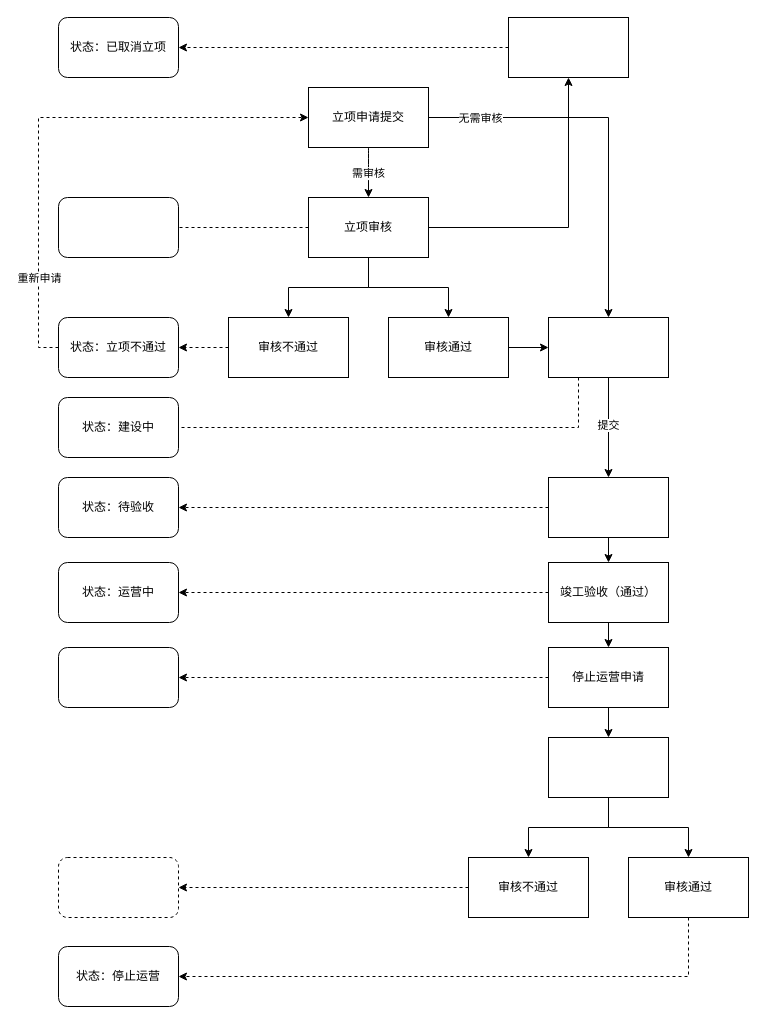
Image size: 766x1024. Some labels were removed from this diagram. The box of each missing label's shape, as (x1, y1, x2, y2) in pixels:
停止运营审核: (548, 736, 668, 798)
取消立项: (508, 16, 628, 78)
回原状态: (58, 856, 178, 918)
提交建设信息: (548, 476, 668, 538)
状态： 停止运营审核: (58, 646, 178, 708)
状态：待审核: (58, 196, 178, 258)
项目建设 （录入建设信息、成本信息）: (548, 316, 668, 378)
